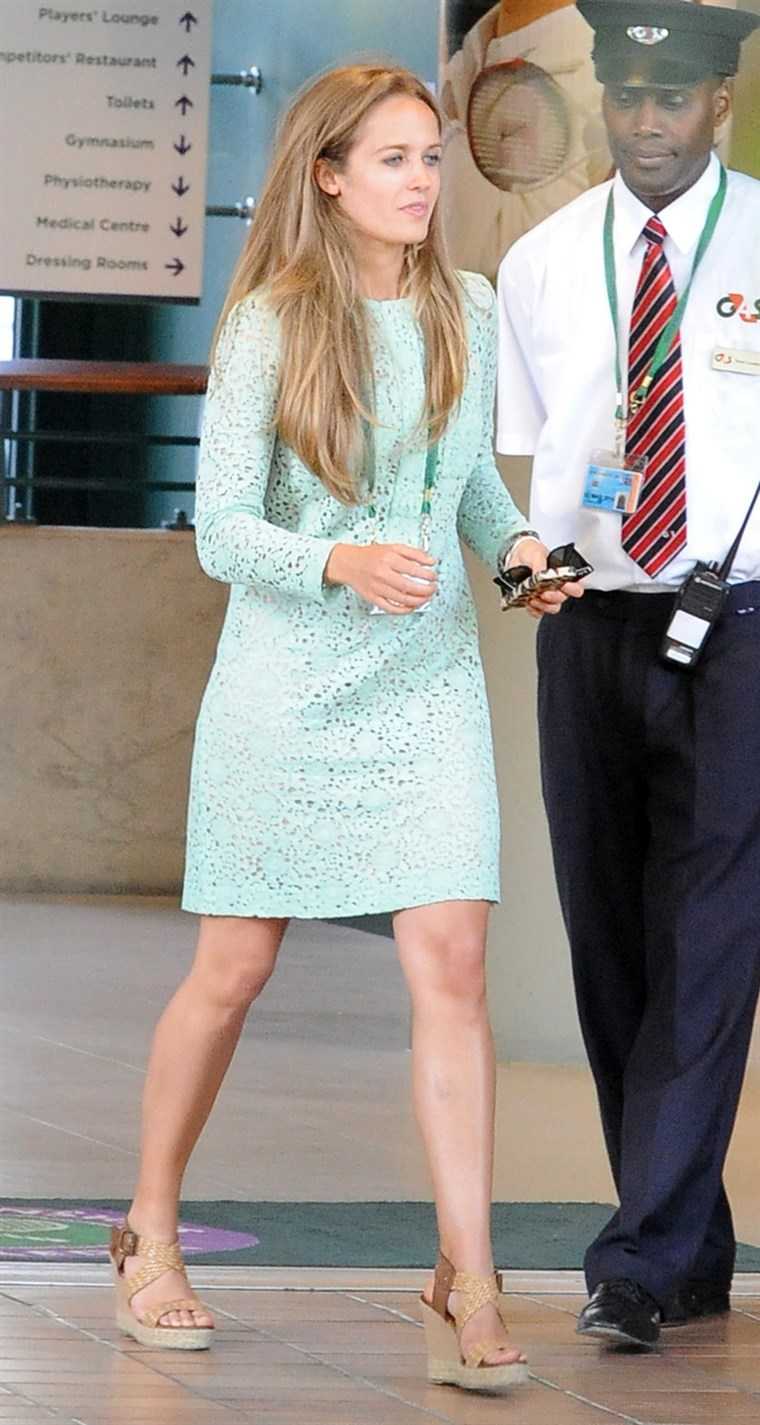Person: (107, 63, 544, 1393), (496, 5, 760, 1349)
